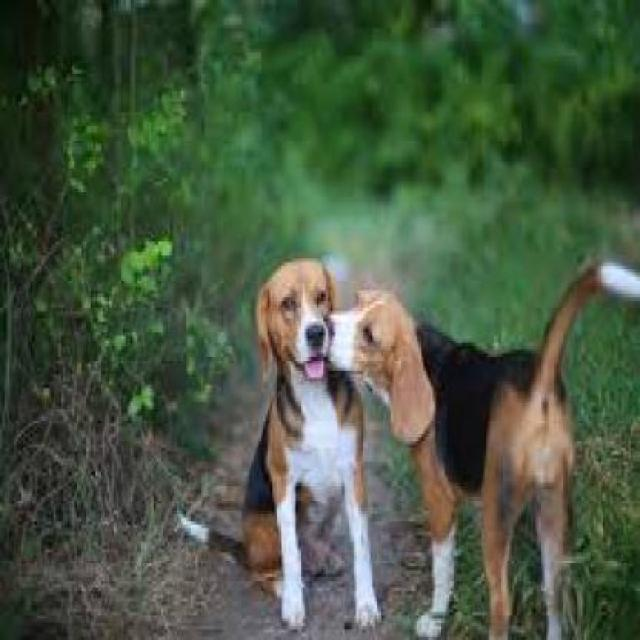Dog: (321, 255, 637, 637), (176, 255, 384, 637)
